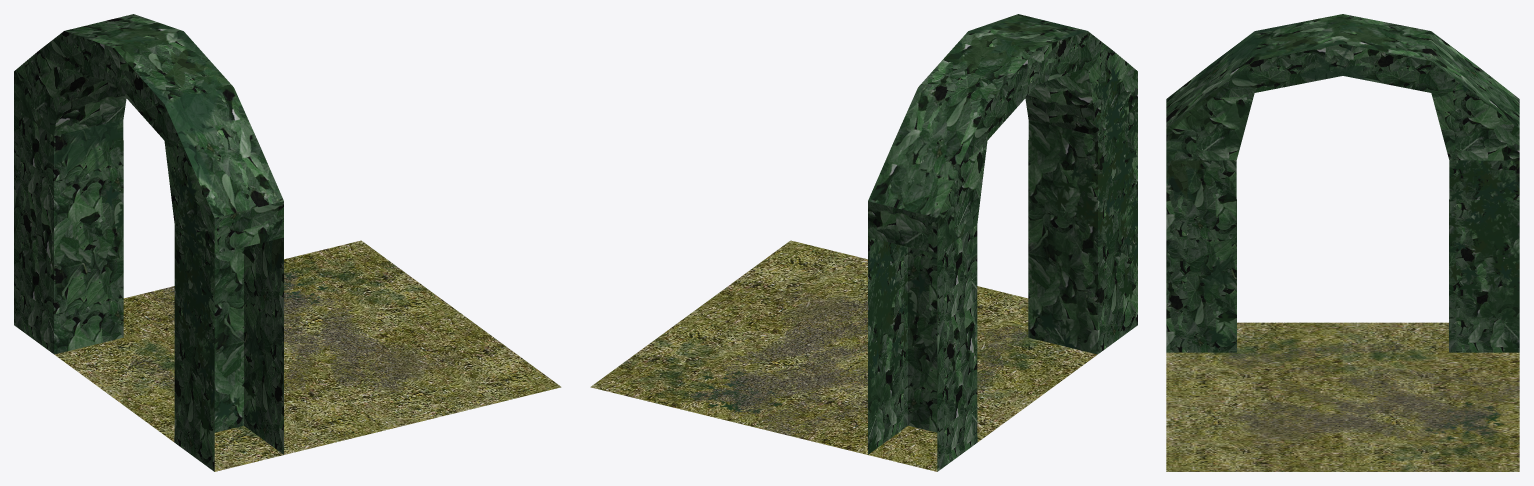
The model's file is 4-5_Gate.fbx.
3 renders of one model, left to right at view 1: azimuth 30°, elevation 25°; view 2: azimuth 150°, elevation 25°; view 3: azimuth 270°, elevation 25°, orthographic. The views are drawn at different scales.
Visible parts, largest first — view 1: top1; view 2: top1; view 3: top1.
Part boxes in pixels (x1,y1,x2,y2): top1: (14, 14, 561, 471); top1: (590, 14, 1137, 471); top1: (1166, 14, 1519, 471).
Bounding box in the file's own units: 100 × 96.41 × 100.
1 material, 1 textured.
